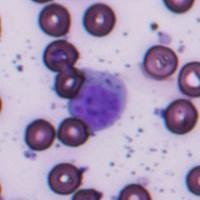L: (68, 70, 130, 132)
